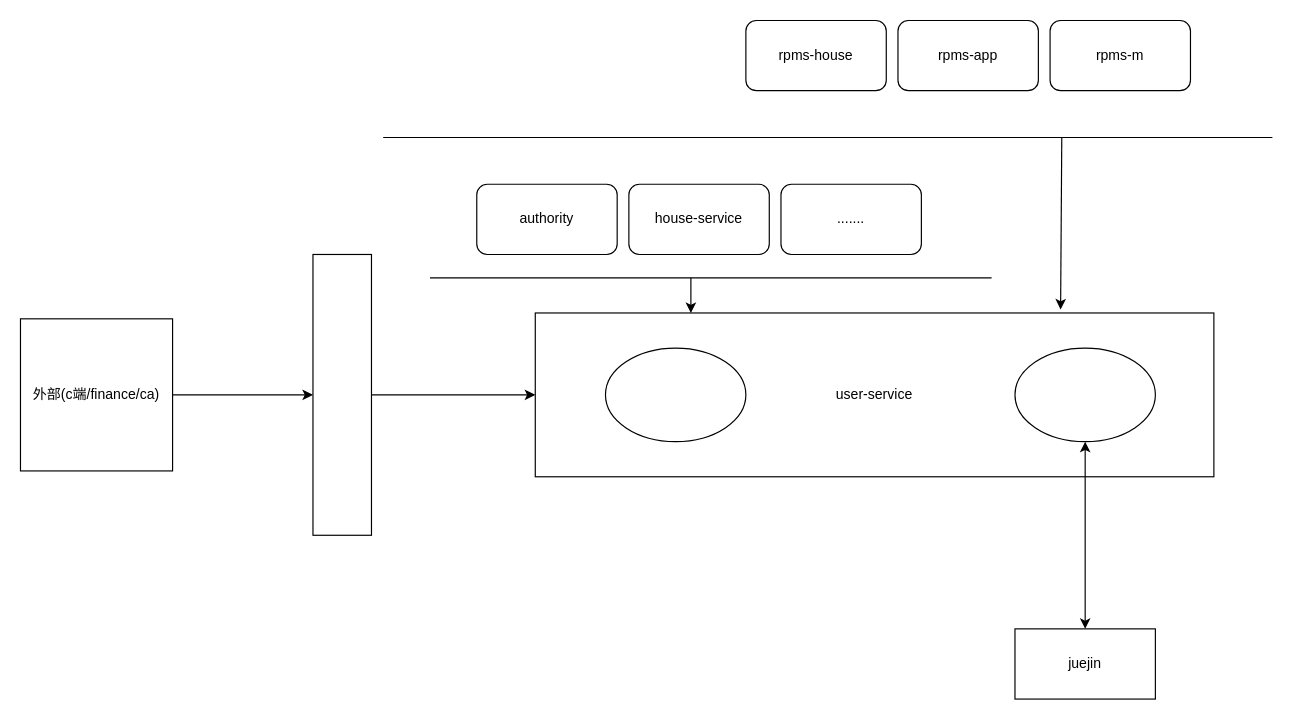
The diagram is 1294 pixels wide and 720 high, and some of its shapes have lost their labels. The shapes that lost their labels are listed below. From the top down, each one's centre as x and y in pixels, then its label:
the point at 341,394: gateway
the point at 675,394: 账号服务
the point at 1084,394: 商家网关
